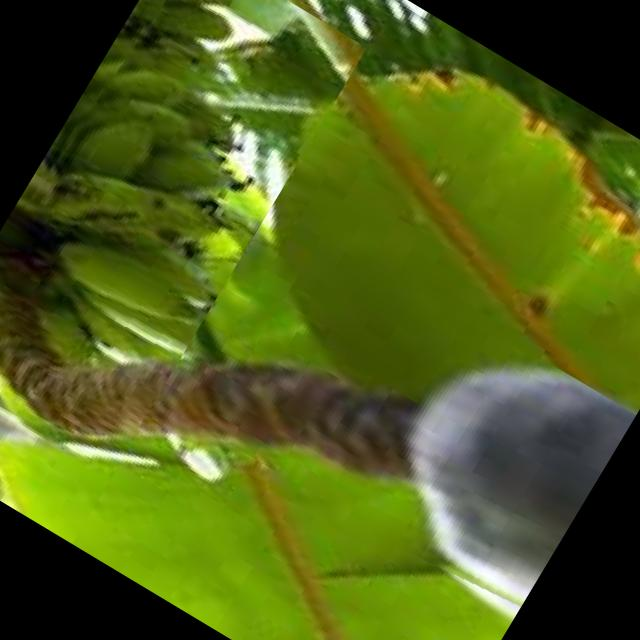Organic: (0, 0, 367, 436), (346, 315, 636, 621)
